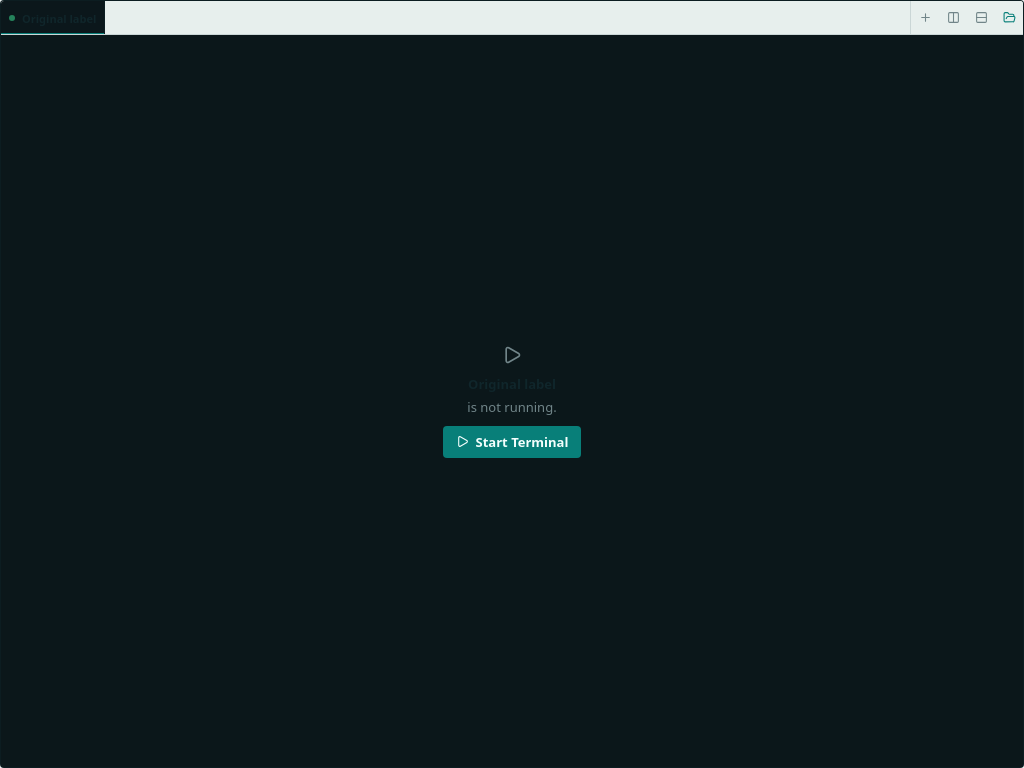
Test case: TerminalPane › blocks pane deletion while a terminal connection is pending
Right-click the element named "Terminal tabs" at (512, 18), box x1=1 y1=1 x2=1023 y2=35
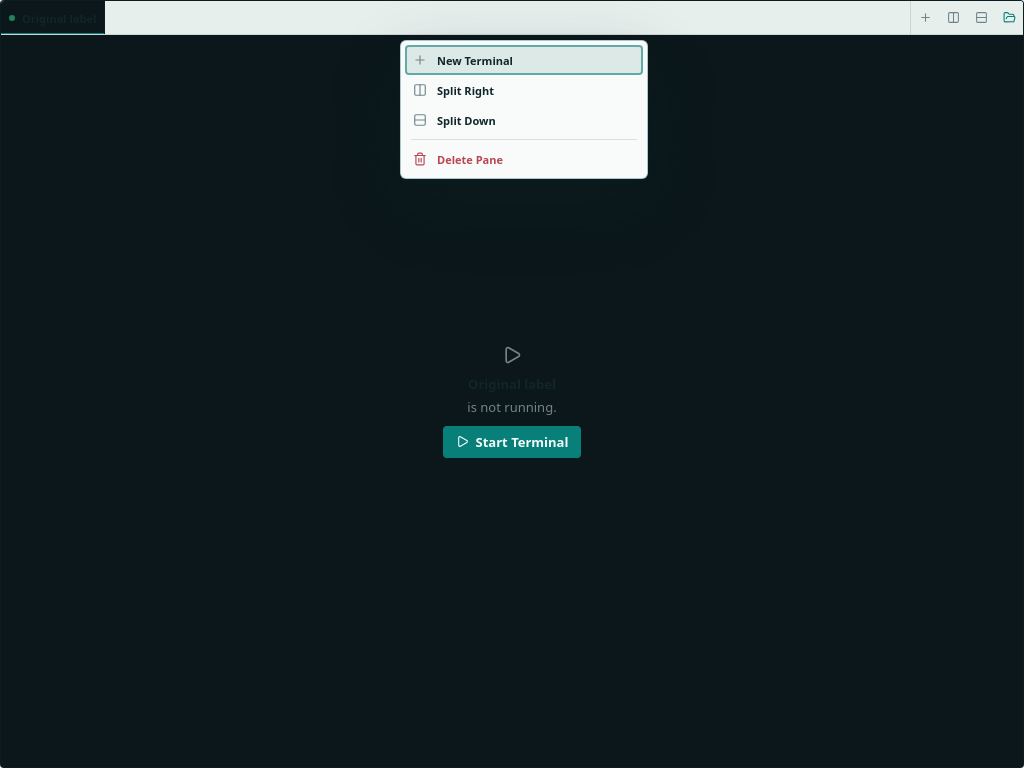
Click the menu item "Delete Pane". click: (524, 159)
box: x1=405 y1=144 x2=643 y2=174
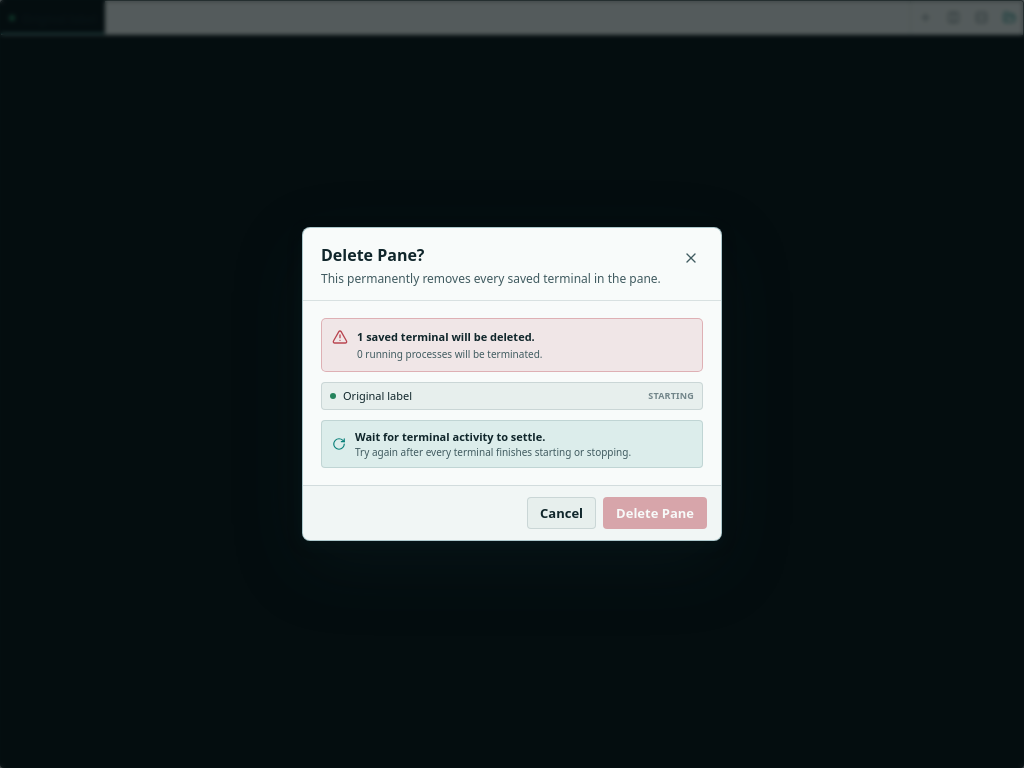
Check: the text "Wait for terminal activity to settle." is shown, box x1=355 y1=429 x2=545 y2=444
Check: the button "Delete Pane" is disabled, box x1=603 y1=497 x2=707 y2=529
